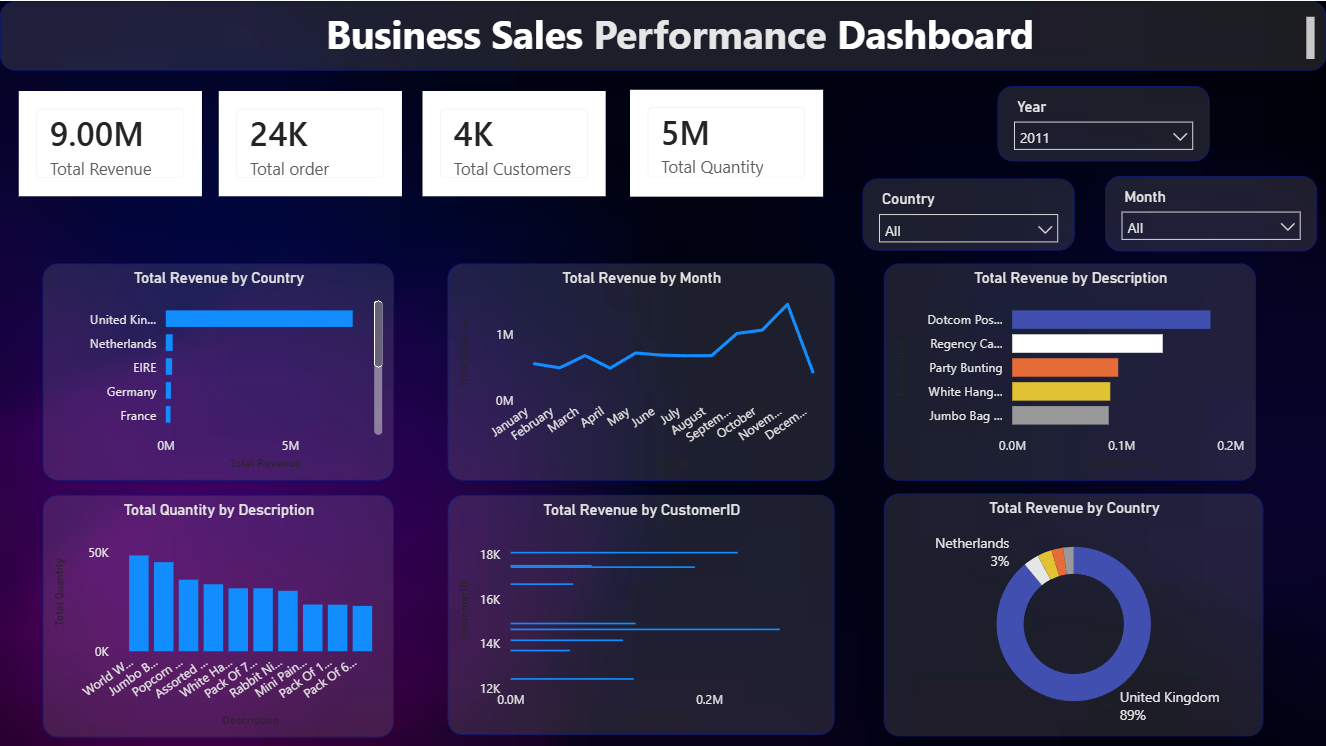

This screenshot's page, from the dashboard's own definition file:
{"tool":"powerbi","page":{"name":"Page 2","canvas":[1280,720],"ordinal":1},"visuals":[{"type":"cardVisual","fields":{"Data":["online_retail.Total Customers"]},"box":[407.5,86.4,177,101.5],"z":0},{"type":"cardVisual","fields":{"Data":["online_retail.Total order "]},"box":[211.3,86.4,177,101.5],"z":1000},{"type":"lineChart","fields":{"Category":["online_retail.InvoiceDate.Variation.Date Hierarchy.Month"],"Y":["online_retail.Total Revenue"]},"box":[432.2,253.9,373.2,209.9],"z":2000},{"type":"clusteredBarChart","fields":{"Category":["online_retail.Description"],"Y":["online_retail.Total Revenue"]},"box":[853.5,253.9,359.5,209.9],"z":3000},{"type":"clusteredBarChart","fields":{"Category":["online_retail.Country"],"Y":["online_retail.Total Revenue"]},"box":[41.2,253.9,338.9,209.9],"z":4000},{"type":"clusteredColumnChart","fields":{"Category":["online_retail.Description"],"Y":["online_retail.Total Quantity"]},"box":[41.2,476.2,338.9,234.6],"z":5000},{"type":"barChart","fields":{"Category":["online_retail.CustomerID"],"Y":["online_retail.Total Revenue"]},"box":[432.2,476.2,373.2,231.9],"z":6000},{"type":"donutChart","fields":{"Category":["online_retail.Country"],"Y":["online_retail.Total Revenue"]},"box":[853.5,474.8,366.4,234.6],"z":7000},{"type":"cardVisual","fields":{"Data":["online_retail.Total Quantity"]},"box":[607.9,85.1,186.6,102.9],"z":8000},{"type":"cardVisual","fields":{"Data":["online_retail.Total Revenue"]},"box":[17.8,86.4,177,101.5],"z":9000},{"type":"slicer","fields":{"Values":["online_retail.InvoiceDate.Variation.Date Hierarchy.Year"]},"box":[963.3,82.3,204.5,72.7],"z":10000},{"type":"slicer","fields":{"Values":["online_retail.InvoiceDate.Variation.Date Hierarchy.Month"]},"box":[1066.2,168.8,204.5,72.7],"z":11000},{"type":"textbox","box":[0,0,1280.3,67.2],"z":12000},{"type":"slicer","fields":{"Values":["online_retail.Country"]},"box":[832.9,171.5,204.5,70],"z":13000}]}

Visuals, with their boxes in screenshot pixels (x1, y1, x2, y2), scaled from the page's 1280x720 canvas onto the 1326x746 screenshot:
cardVisual - online_retail.Total Customers: <bbox>422, 90, 606, 195</bbox>
cardVisual - online_retail.Total order : <bbox>219, 90, 402, 195</bbox>
lineChart - online_retail.InvoiceDate.Variation.Date Hierarchy.Month x online_retail.Total Revenue: <bbox>448, 263, 834, 481</bbox>
clusteredBarChart - online_retail.Description x online_retail.Total Revenue: <bbox>884, 263, 1257, 481</bbox>
clusteredBarChart - online_retail.Country x online_retail.Total Revenue: <bbox>43, 263, 394, 481</bbox>
clusteredColumnChart - online_retail.Description x online_retail.Total Quantity: <bbox>43, 493, 394, 736</bbox>
barChart - online_retail.CustomerID x online_retail.Total Revenue: <bbox>448, 493, 834, 734</bbox>
donutChart - online_retail.Country x online_retail.Total Revenue: <bbox>884, 492, 1264, 735</bbox>
cardVisual - online_retail.Total Quantity: <bbox>630, 88, 823, 195</bbox>
cardVisual - online_retail.Total Revenue: <bbox>18, 90, 202, 195</bbox>
slicer - online_retail.InvoiceDate.Variation.Date Hierarchy.Year: <bbox>998, 85, 1210, 161</bbox>
slicer - online_retail.InvoiceDate.Variation.Date Hierarchy.Month: <bbox>1105, 175, 1316, 250</bbox>
textbox: <bbox>0, 0, 1325, 70</bbox>
slicer - online_retail.Country: <bbox>863, 178, 1075, 250</bbox>
